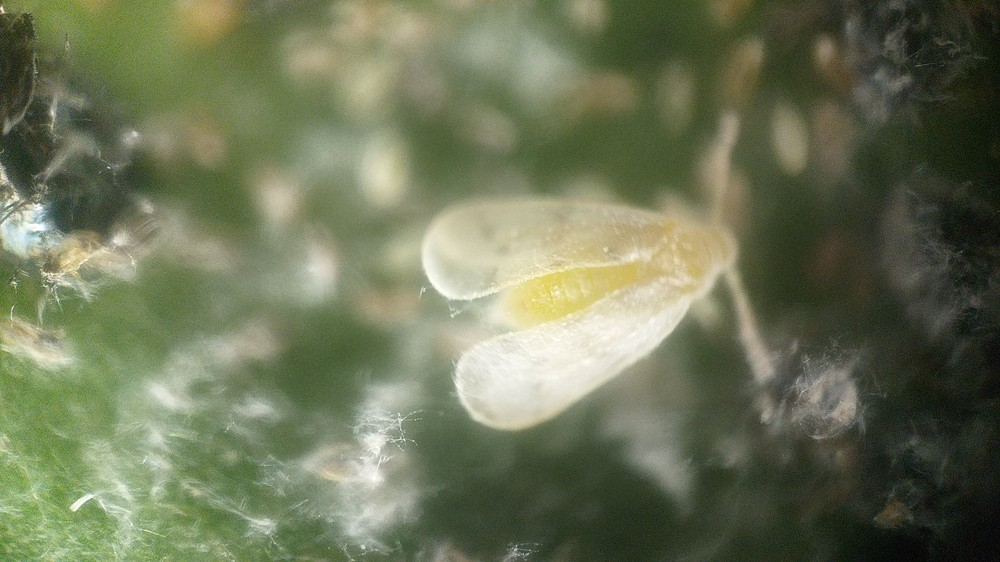Mosca Blanca: (411, 109, 783, 447)
